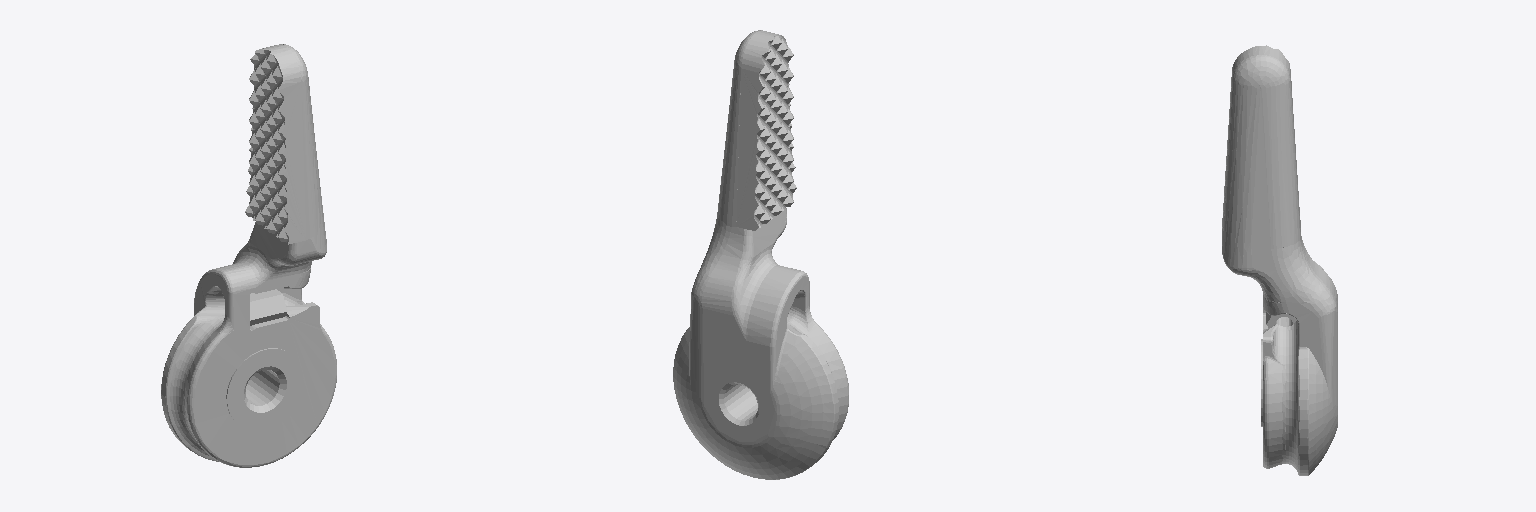
Rendered from tool gripper right link.OBJ.
The picture shows the model from 3 angles: view 1: azimuth 30°, elevation 25°; view 2: azimuth 150°, elevation 25°; view 3: azimuth 270°, elevation 25°; orthographic projection.
Parts seen in each view (by area): view 1: /ambf/env/psm2/tool_gripper_right_link_/ambf/env/psm2/tool_gripp; view 2: /ambf/env/psm2/tool_gripper_right_link_/ambf/env/psm2/tool_gripp; view 3: /ambf/env/psm2/tool_gripper_right_link_/ambf/env/psm2/tool_gripp.
Part boxes in pixels (left/top/right/bottom): /ambf/env/psm2/tool_gripper_right_link_/ambf/env/psm2/tool_gripp: left=161, top=44, right=336, bottom=467; /ambf/env/psm2/tool_gripper_right_link_/ambf/env/psm2/tool_gripp: left=673, top=30, right=848, bottom=479; /ambf/env/psm2/tool_gripper_right_link_/ambf/env/psm2/tool_gripp: left=1222, top=45, right=1337, bottom=475.
Bounding box in the file's own units: 0.0048 × 0.0121 × 0.003.